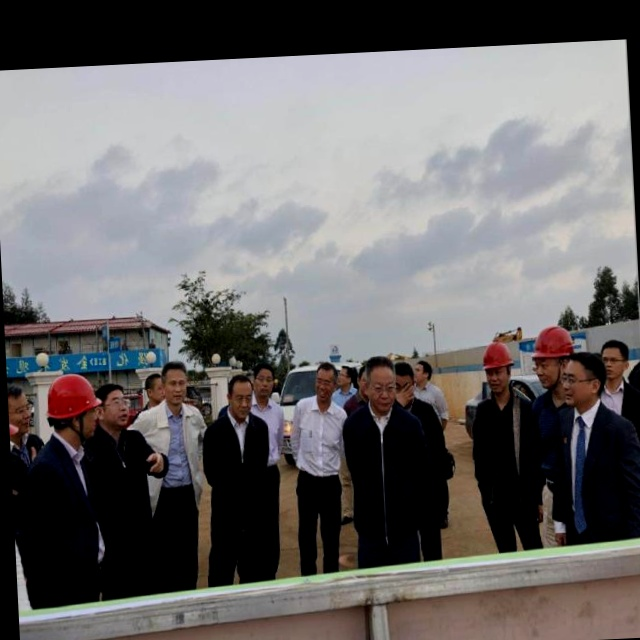Con_Casco: (45, 373, 100, 448), (482, 341, 515, 395)
Sin_Casco_Mascarrilla: (362, 354, 399, 414), (160, 358, 191, 409), (224, 374, 257, 418)
Sin_Chaleco: (343, 401, 424, 529), (205, 413, 272, 536)
